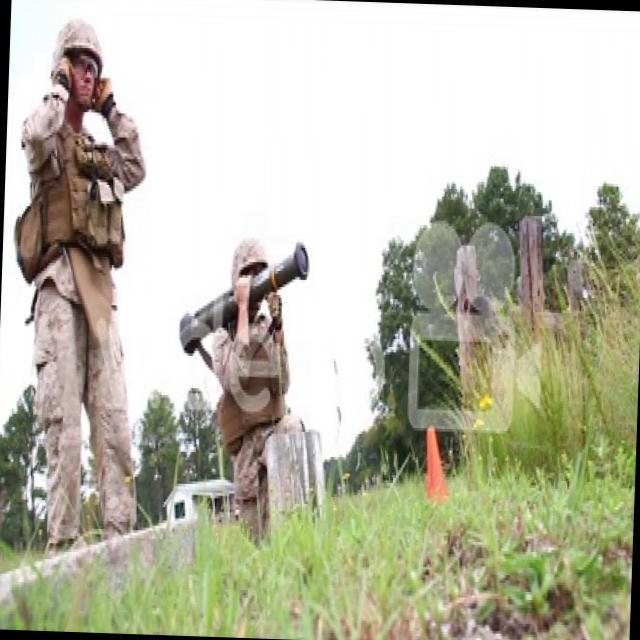rocket: (177, 236, 311, 374)
